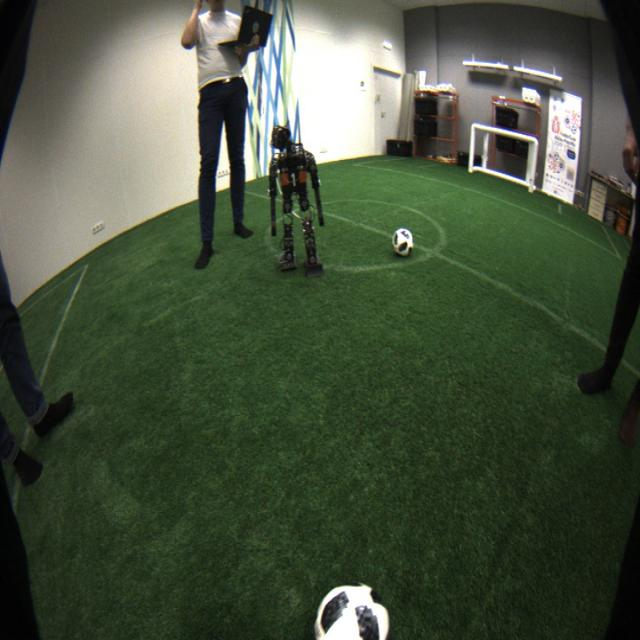ball: (311, 580, 392, 640), (391, 226, 415, 259)
goalpost: (527, 136, 540, 193), (466, 123, 477, 173)
